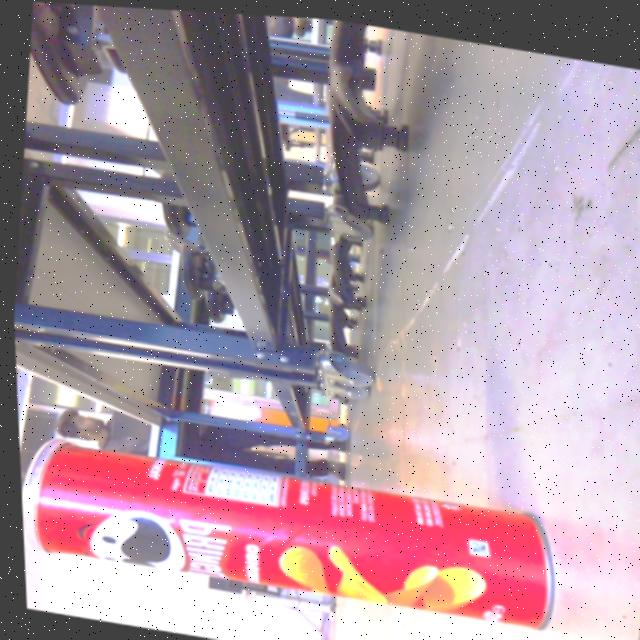redpringles: (14, 400, 585, 640)
